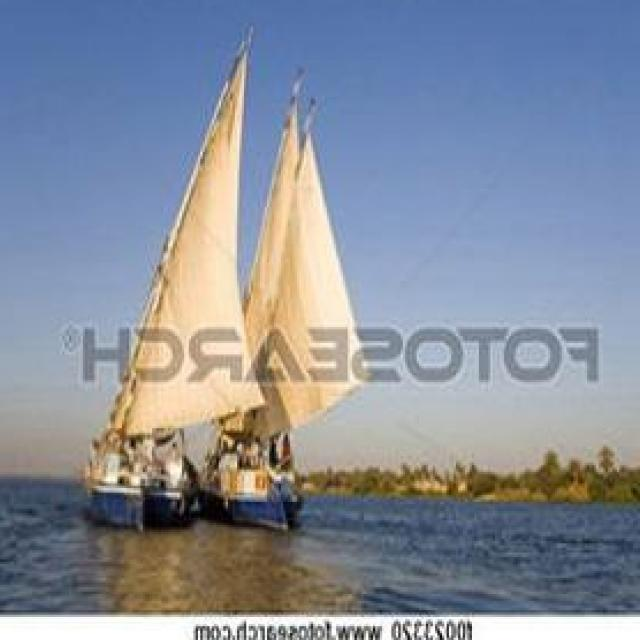sailboat: (191, 76, 386, 530), (84, 73, 266, 537)
